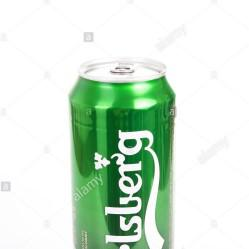beer: (69, 57, 176, 249)
